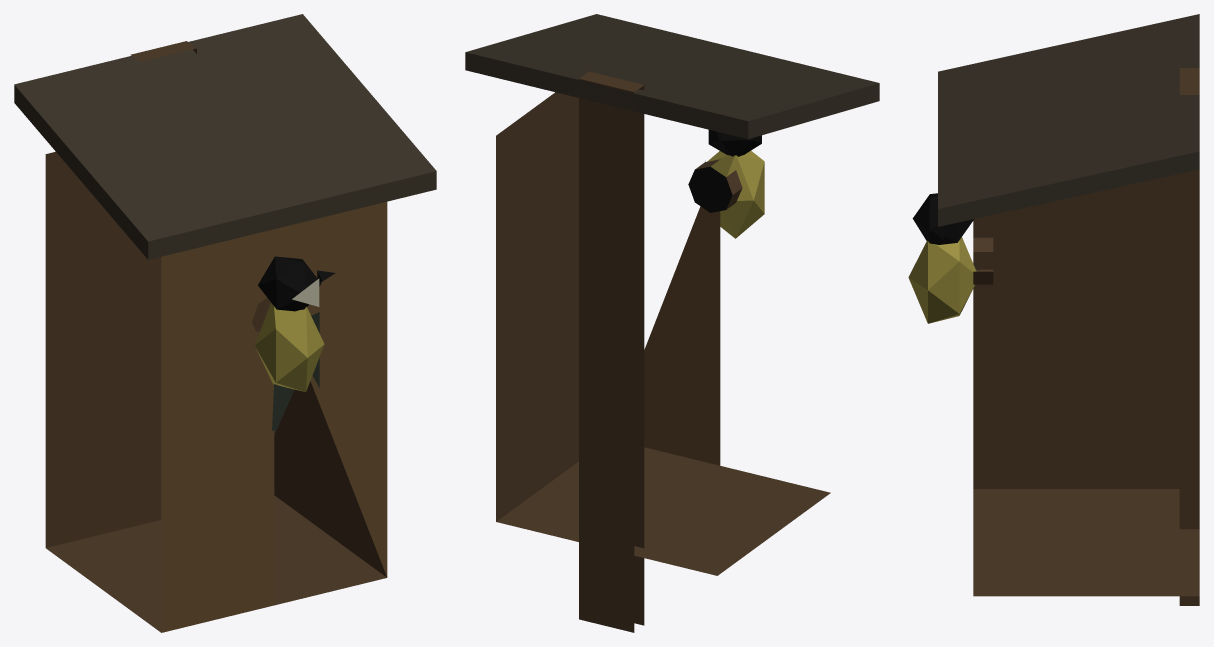
File: birdbox.glb
3 views of the same model, side by side, from view 1: azimuth 30°, elevation 25°; view 2: azimuth 150°, elevation 25°; view 3: azimuth 270°, elevation 25° (orthographic). The views are drawn at different scales.
Parts seen in each view (by area): view 1: birdbox; view 2: birdbox; view 3: birdbox.
Part boxes in pixels (bbox=[...]): birdbox: bbox=[14, 14, 436, 632]; birdbox: bbox=[465, 14, 879, 632]; birdbox: bbox=[908, 14, 1199, 605].
Size of the model in its own units: 0.23 by 0.42 by 0.206.
